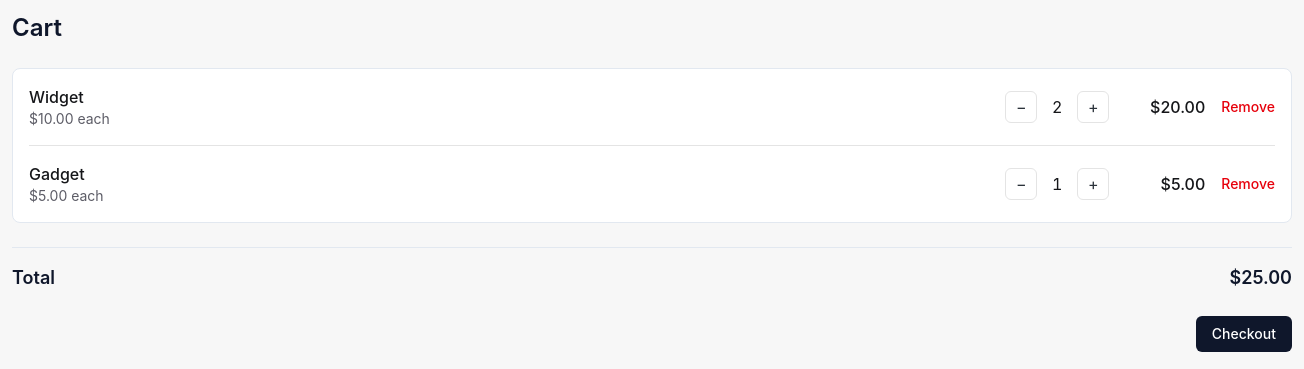
Scenario: CartPage › checkout clears the cart
Click the button with test id "checkout": (1244, 334) [1196, 316, 1292, 352]
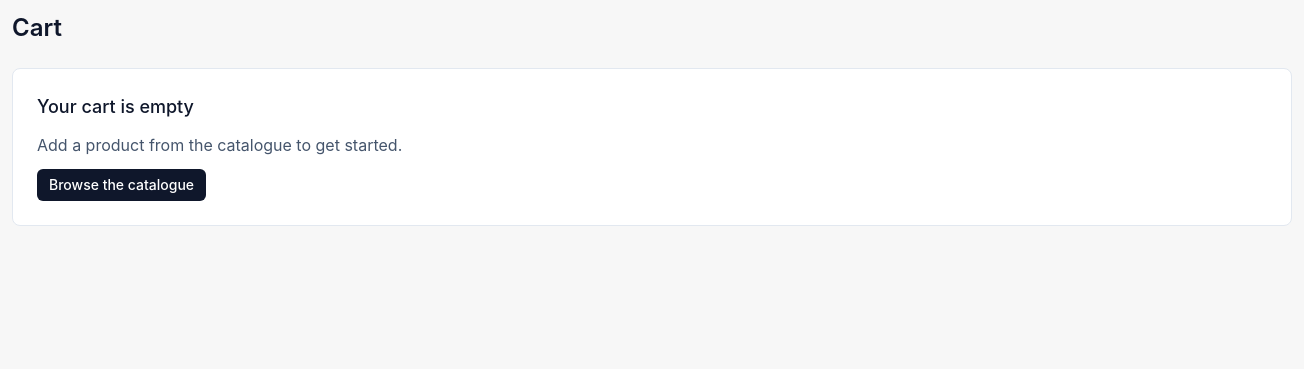
Result: the element with test id "empty-cart" is shown at [12, 68, 1292, 226]
